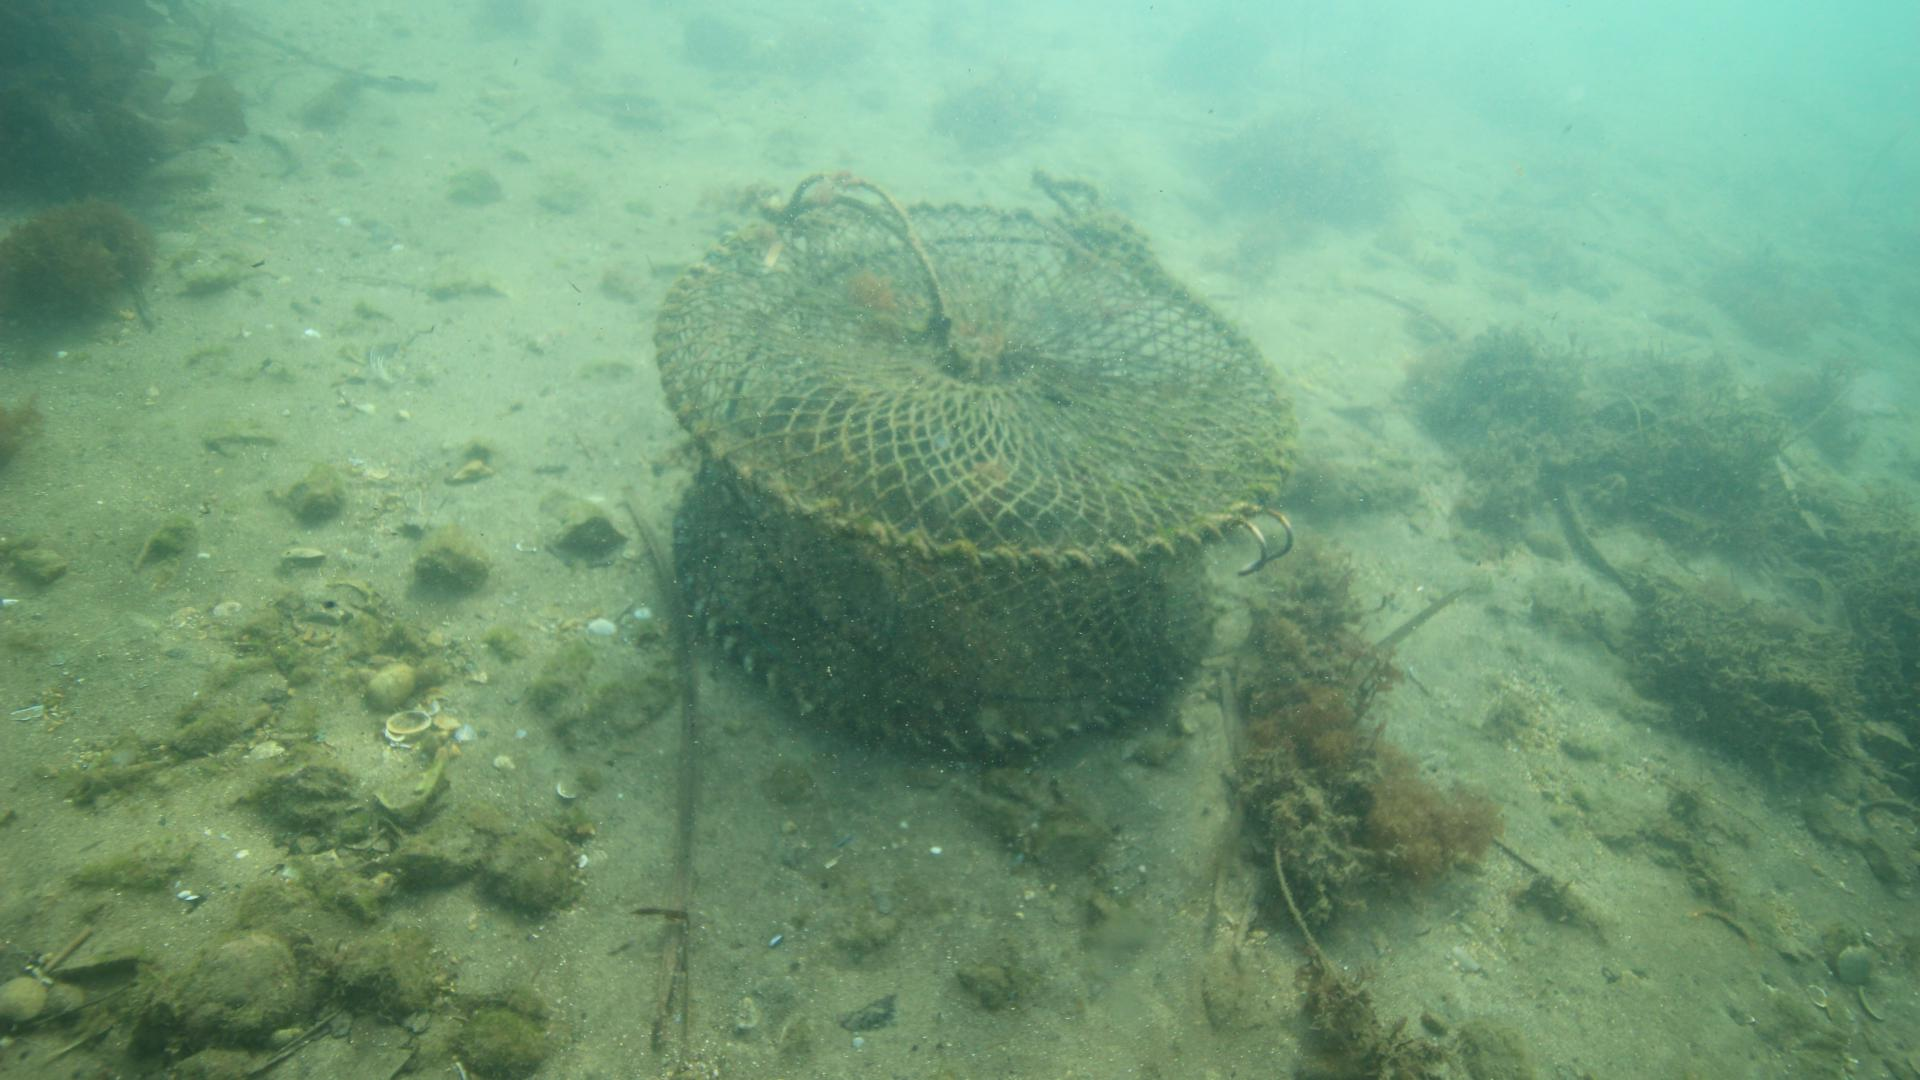circular fish trap: (651, 198, 1300, 756)
